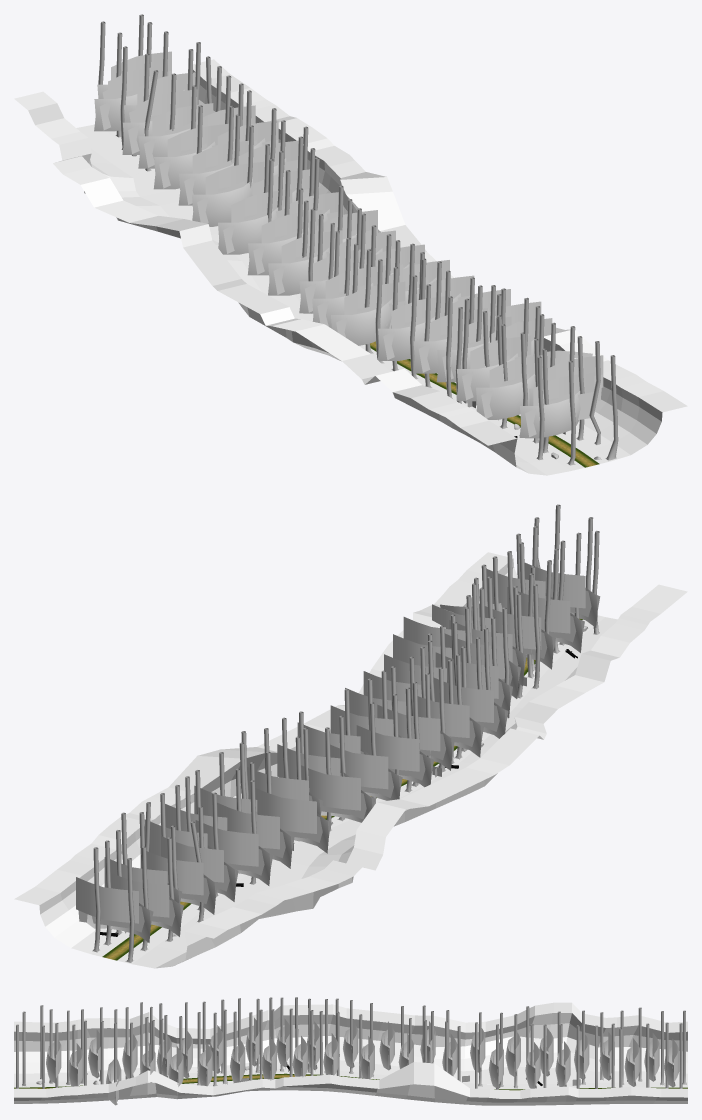
File: forest_1.fbx
3 views of the same model, one above another, from view 1: azimuth 30°, elevation 25°; view 2: azimuth 150°, elevation 25°; view 3: azimuth 270°, elevation 25° (orthographic). The views are drawn at different scales.
Visible parts, largest first — view 1: polySurface2926, polySurface2927, floor; view 2: polySurface2926, polySurface2927, floor; view 3: polySurface2926, polySurface2927, floor.
Part boxes in pixels (x1=…): polySurface2926: x1=14, y1=14, x2=687, y2=475; polySurface2927: x1=115, y1=31, x2=555, y2=428; floor: x1=370, y1=341, x2=599, y2=467; polySurface2926: x1=14, y1=504, x2=687, y2=968; polySurface2927: x1=115, y1=542, x2=553, y2=951; floor: x1=102, y1=618, x2=582, y2=960; polySurface2926: x1=14, y1=997, x2=687, y2=1105; polySurface2927: x1=84, y1=997, x2=664, y2=1089; floor: x1=14, y1=1073, x2=687, y2=1090.
Size of the model in its own units: 23190 by 9332 by 76200.
